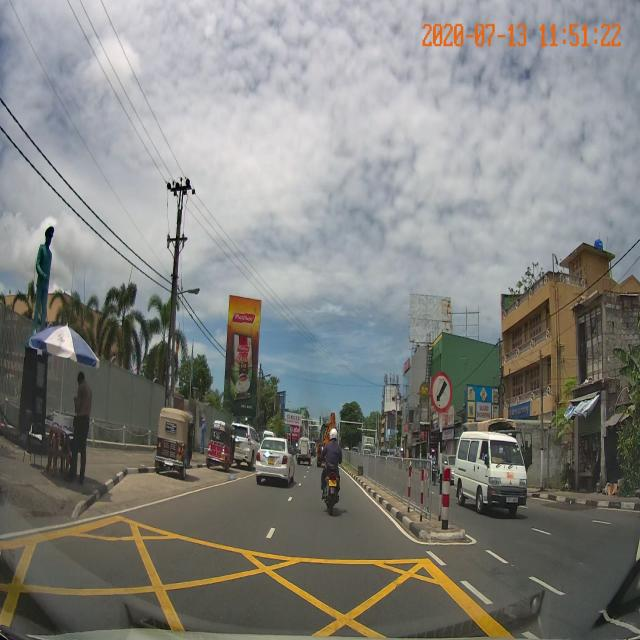Jeltaya razmetka: (0, 510, 524, 639)
